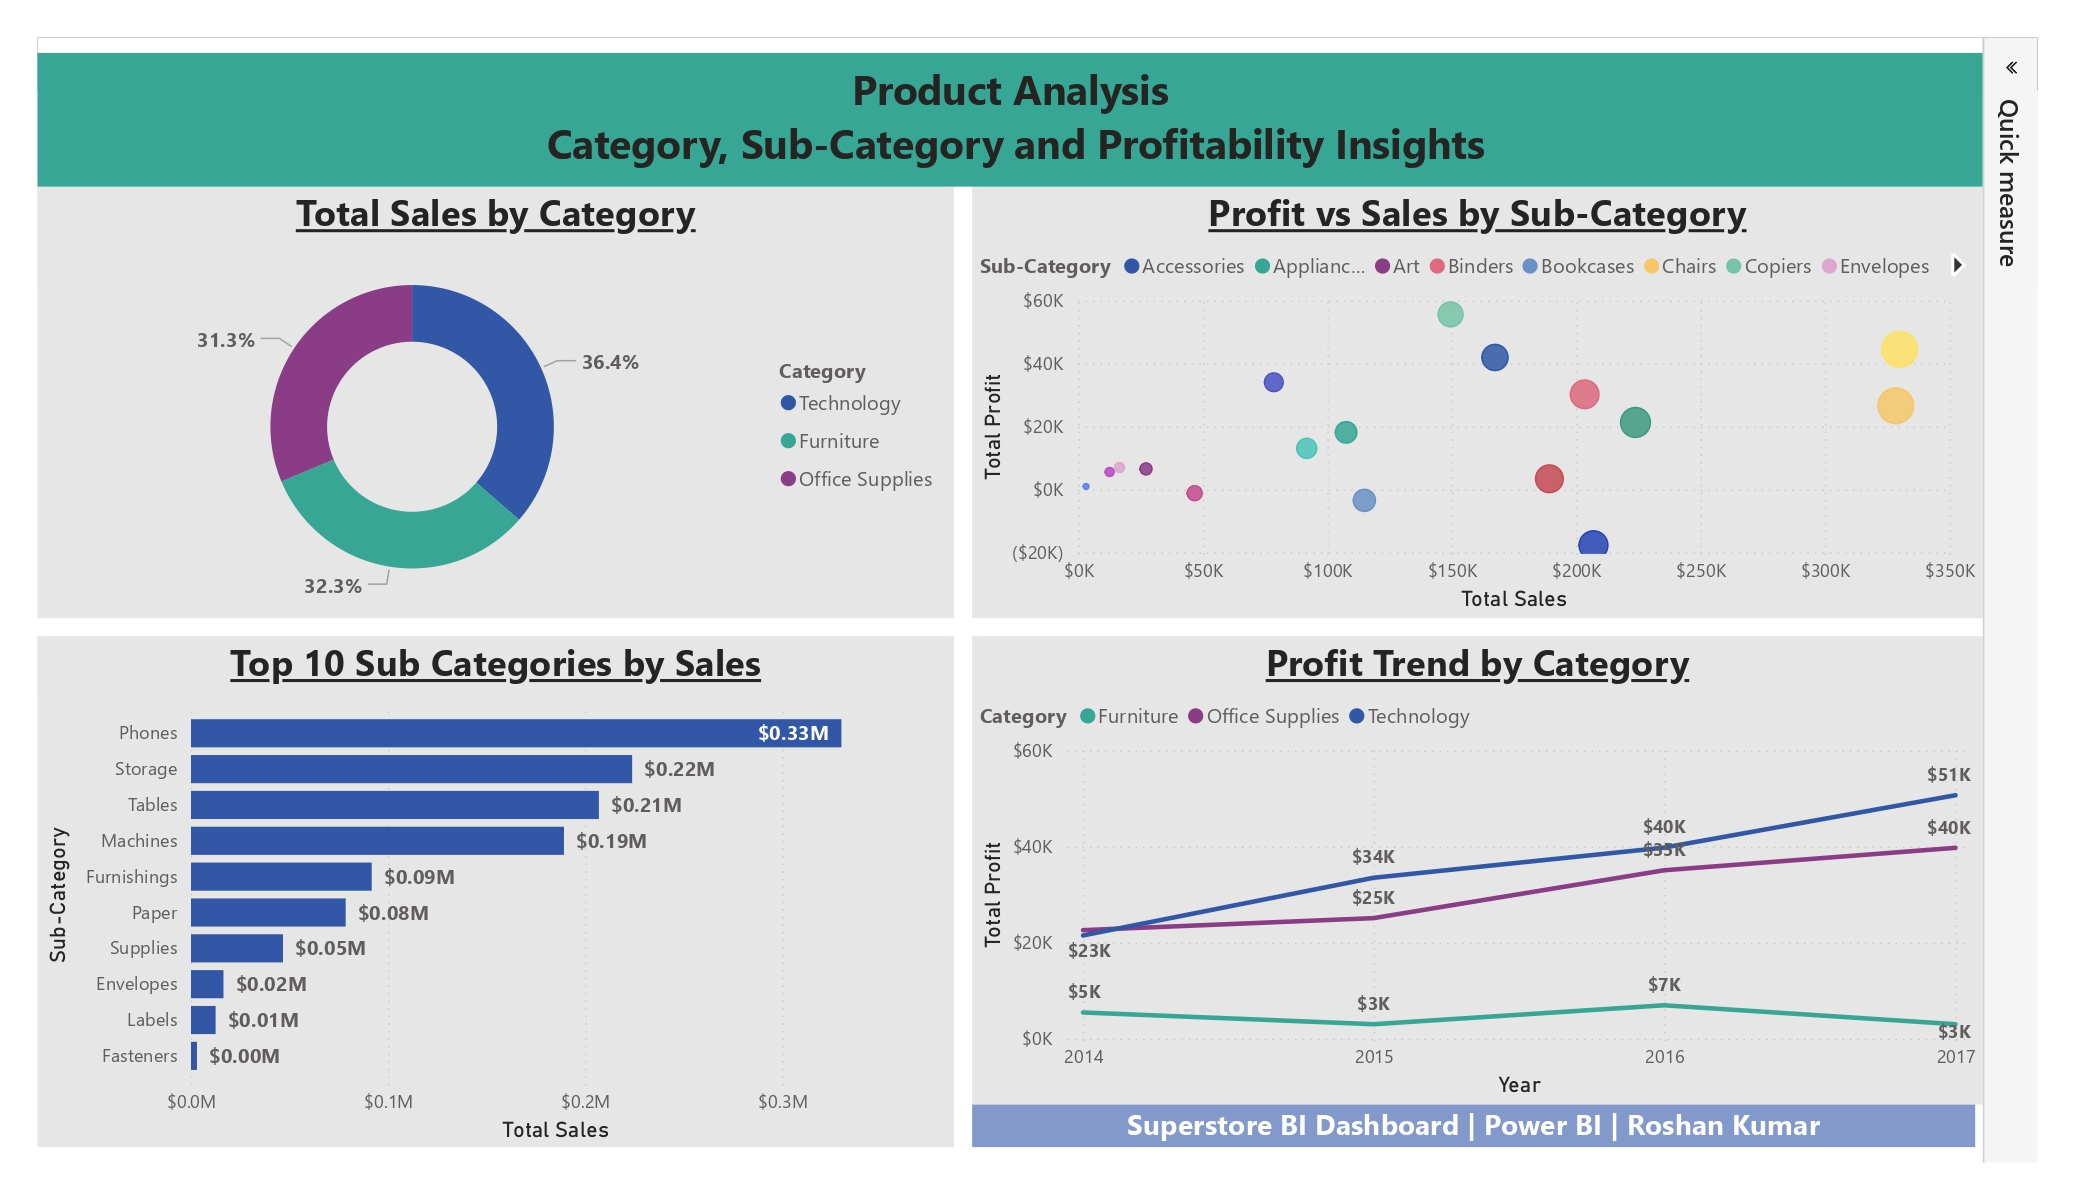

Layout of this report page (visuals, bound fields, positions):
{"tool":"powerbi","page":{"name":"Product Analysis","canvas":[1280,720],"ordinal":2},"visuals":[{"type":"donutChart","title":"Total Sales by Category","fields":{"Category":["Superstore.Category"],"Y":["Superstore.Total Sales"]},"box":[0,87.6,602.9,284.6],"z":0},{"type":"clusteredBarChart","title":"Top 10 Sub Categories by Sales","fields":{"Category":["Superstore.Sub-Category"],"Y":["Superstore.Total Sales"]},"box":[0,384,602.9,336.8],"z":1000},{"type":"scatterChart","title":"Profit vs Sales by Sub-Category","fields":{"X":["Superstore.Total Sales"],"Y":["Superstore.Total Profit"],"Size":["Superstore.Total Sales"],"Series":["Superstore.Sub-Category"]},"box":[614.7,87.6,665.3,284.6],"z":2000},{"type":"lineChart","title":"Profit Trend by Category","fields":{"Category":["Superstore.Order Date.Variation.Date Hierarchy.Year","Superstore.Order Date.Variation.Date Hierarchy.Quarter"],"Series":["Superstore.Category"],"Y":["Superstore.Total Profit"]},"box":[614.7,384,665.3,308.2],"z":3000},{"type":"textbox","title":"Superstore BI Dashboard | Power BI | Roshan Kumar","box":[614.7,692.2,660.2,28.6],"z":4000},{"type":"textbox","box":[0,0,1280,87.6],"z":5000}]}

Visuals, with their boxes on the page's 1280x720 design canvas (x1, y1, x2, y2). These are canvas units, not pixel positions in the 2075x1200 screenshot, which may show the page scaled, cropped or inside an application window:
"Total Sales by Category" donutChart: pyautogui.locateOnScreen(0, 88, 603, 372)
"Top 10 Sub Categories by Sales" clusteredBarChart: pyautogui.locateOnScreen(0, 384, 603, 721)
"Profit vs Sales by Sub-Category" scatterChart: pyautogui.locateOnScreen(615, 88, 1280, 372)
"Profit Trend by Category" lineChart: pyautogui.locateOnScreen(615, 384, 1280, 692)
"Superstore BI Dashboard | Power BI | Roshan Kumar" textbox: pyautogui.locateOnScreen(615, 692, 1275, 721)
textbox: pyautogui.locateOnScreen(0, 0, 1280, 88)
